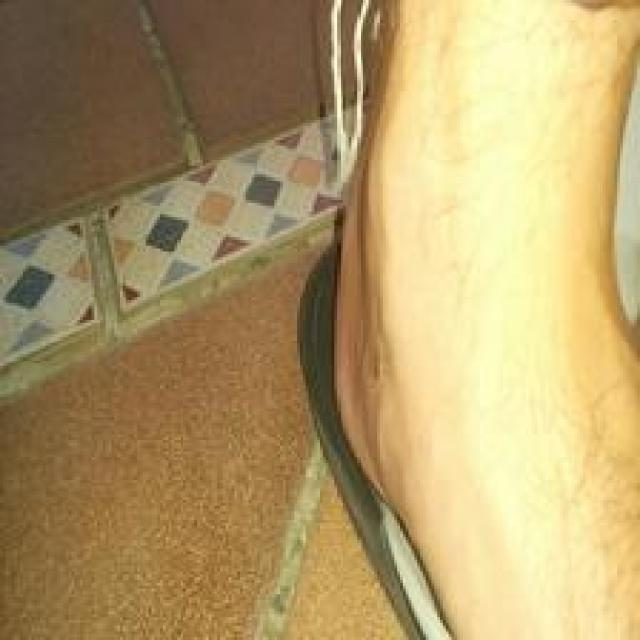Aedes albopictus: (300, 0, 640, 640)
